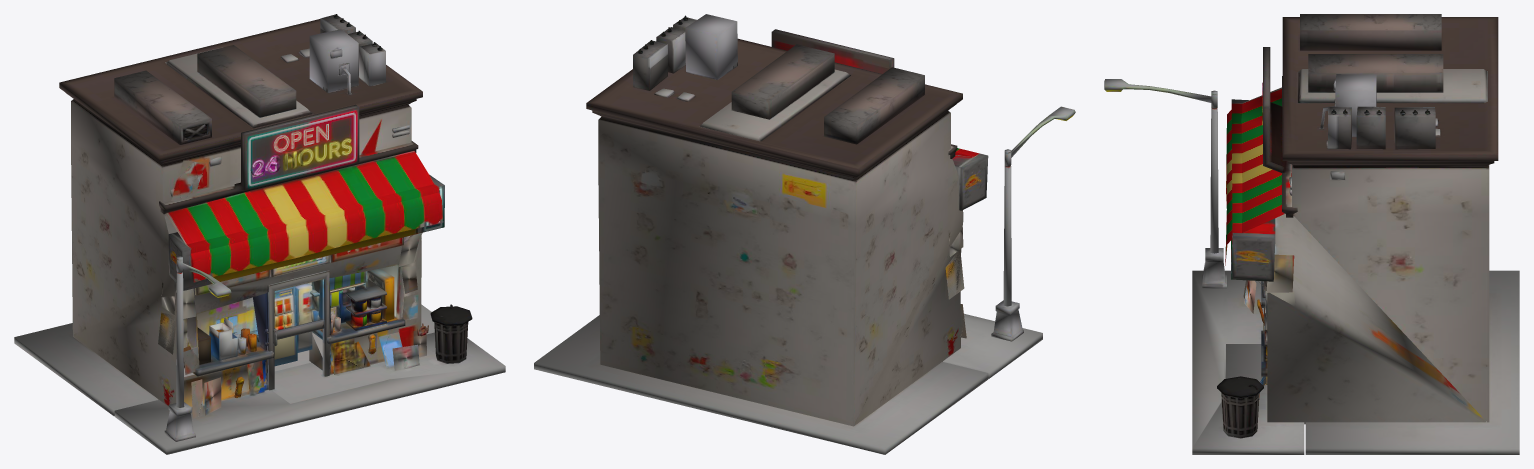
File: 019e4182-e538-7102-969e-3b4f36131fce.glb
3 views of the same model, side by side, from view 1: azimuth 30°, elevation 25°; view 2: azimuth 150°, elevation 25°; view 3: azimuth 270°, elevation 25° (orthographic). The views are drawn at different scales.
Visible parts, largest first — view 1: tripo_node_b384718d-cb58-414e-b5c3-5afc9b3cb748; view 2: tripo_node_b384718d-cb58-414e-b5c3-5afc9b3cb748; view 3: tripo_node_b384718d-cb58-414e-b5c3-5afc9b3cb748.
Boxes of the visible parts, x1,y1,x2,y2 form: tripo_node_b384718d-cb58-414e-b5c3-5afc9b3cb748: [14, 14, 505, 454]; tripo_node_b384718d-cb58-414e-b5c3-5afc9b3cb748: [534, 14, 1075, 454]; tripo_node_b384718d-cb58-414e-b5c3-5afc9b3cb748: [1104, 14, 1519, 454].
Size of the model in its own units: 0.998 by 0.8457 by 0.9863.
Materials: 1 (1 with a texture image).
